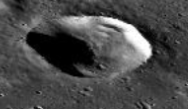crater: (3, 5, 181, 96)
